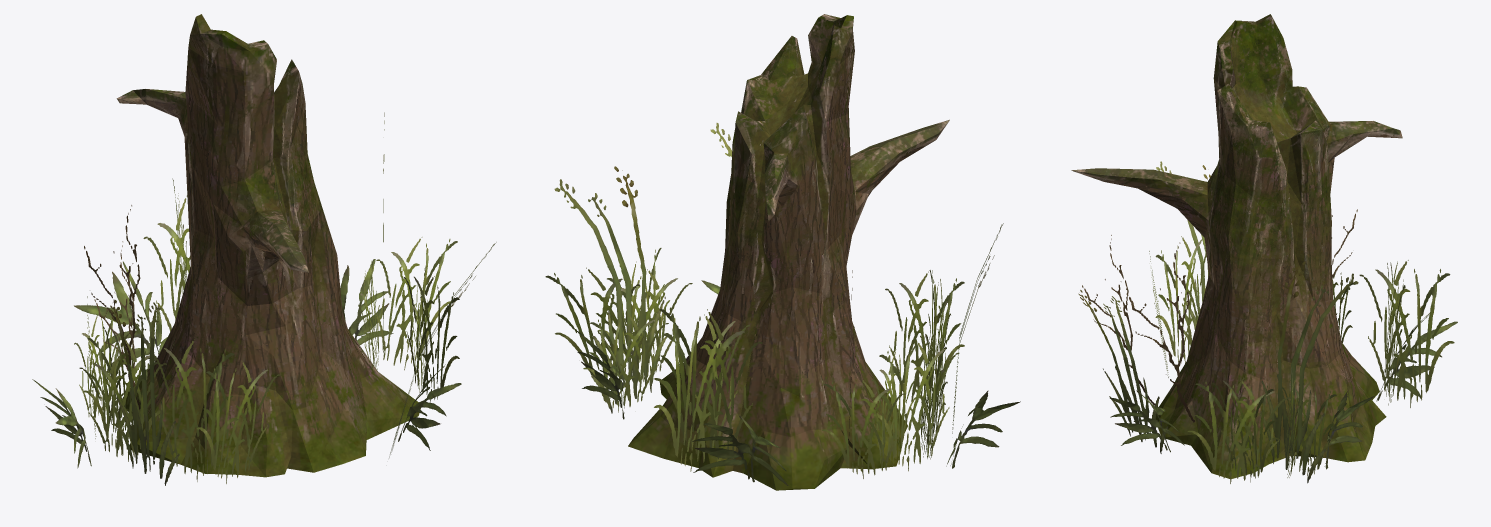
File: 405_TreeStump_01a.fbx
The picture shows the model from 3 angles, left to right: view 1: azimuth 30°, elevation 25°; view 2: azimuth 150°, elevation 25°; view 3: azimuth 270°, elevation 25°; orthographic projection. The views are drawn at different scales.
Parts seen in each view (by area): view 1: SM_g_405_TreeStump_01a.mo; view 2: SM_g_405_TreeStump_01a.mo; view 3: SM_g_405_TreeStump_01a.mo.
Part boxes in pixels (x1,y1,x2,y2): SM_g_405_TreeStump_01a.mo: [32, 14, 496, 485]; SM_g_405_TreeStump_01a.mo: [545, 14, 1020, 490]; SM_g_405_TreeStump_01a.mo: [1071, 14, 1457, 483].
Size of the model in its own units: 191 by 175 by 165.
2 materials, 2 textured.
